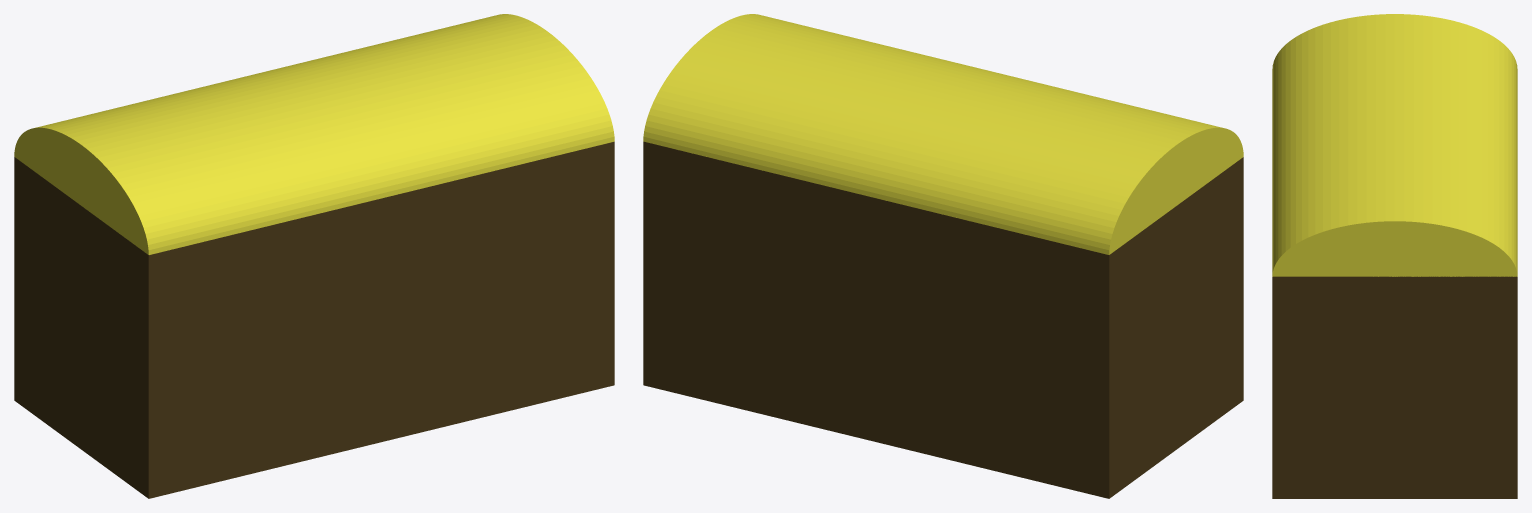
Rendered from Chest.fbx.
3 views of the same model, side by side, from view 1: azimuth 30°, elevation 25°; view 2: azimuth 150°, elevation 25°; view 3: azimuth 270°, elevation 25° (orthographic). The views are drawn at different scales.
Parts seen in each view (by area): view 1: Cube, Cube.001; view 2: Cube, Cube.001; view 3: Cube.001, Cube.
Boxes of the visible parts, <box> form: Cube: <box>14,141,614,498</box>; Cube.001: <box>14,14,614,254</box>; Cube: <box>643,141,1243,498</box>; Cube.001: <box>643,14,1243,254</box>; Cube.001: <box>1272,14,1517,276</box>; Cube: <box>1272,276,1517,498</box>.
Size of the model in its own units: 400 by 250 by 200.
